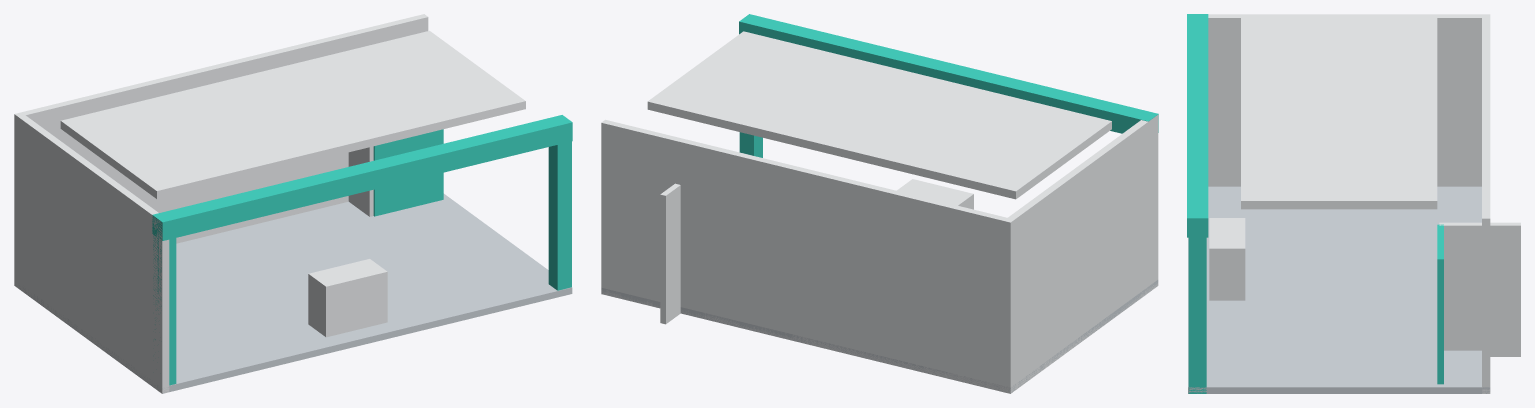
3 renders of one model, left to right at view 1: azimuth 30°, elevation 25°; view 2: azimuth 150°, elevation 25°; view 3: azimuth 270°, elevation 25°, orthographic. The views are drawn at different scales.
Visible parts, largest first — view 1: Exhibition Booth Concept; view 2: Exhibition Booth Concept; view 3: Exhibition Booth Concept.
Boxes of the visible parts, x1,y1,x2,y2 form: Exhibition Booth Concept: [14, 14, 572, 393]; Exhibition Booth Concept: [601, 14, 1158, 393]; Exhibition Booth Concept: [1187, 14, 1520, 393].
Bounding box in the file's own units: 8 × 3.34 × 5.52.
